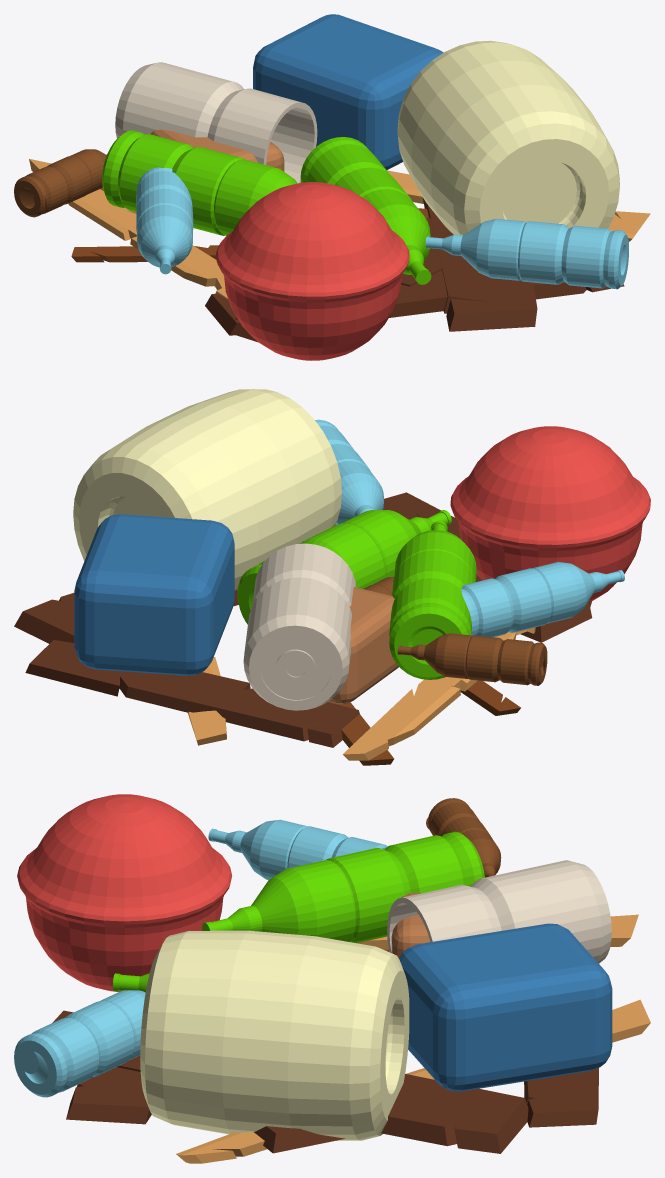
File: trashes.fbx
The picture shows the model from 3 angles, top to bottom: view 1: azimuth 30°, elevation 25°; view 2: azimuth 150°, elevation 25°; view 3: azimuth 270°, elevation 25°; orthographic projection. The views are drawn at different scales.
Parts seen in each view (by area): view 1: Plane.008; view 2: Plane.008; view 3: Plane.008.
Boxes of the visible parts, x1,y1,x2,y2 form: Plane.008: (14, 14, 650, 360); Plane.008: (14, 389, 650, 765); Plane.008: (14, 794, 650, 1163).
Bounding box in the file's own units: 561 × 175 × 544.
